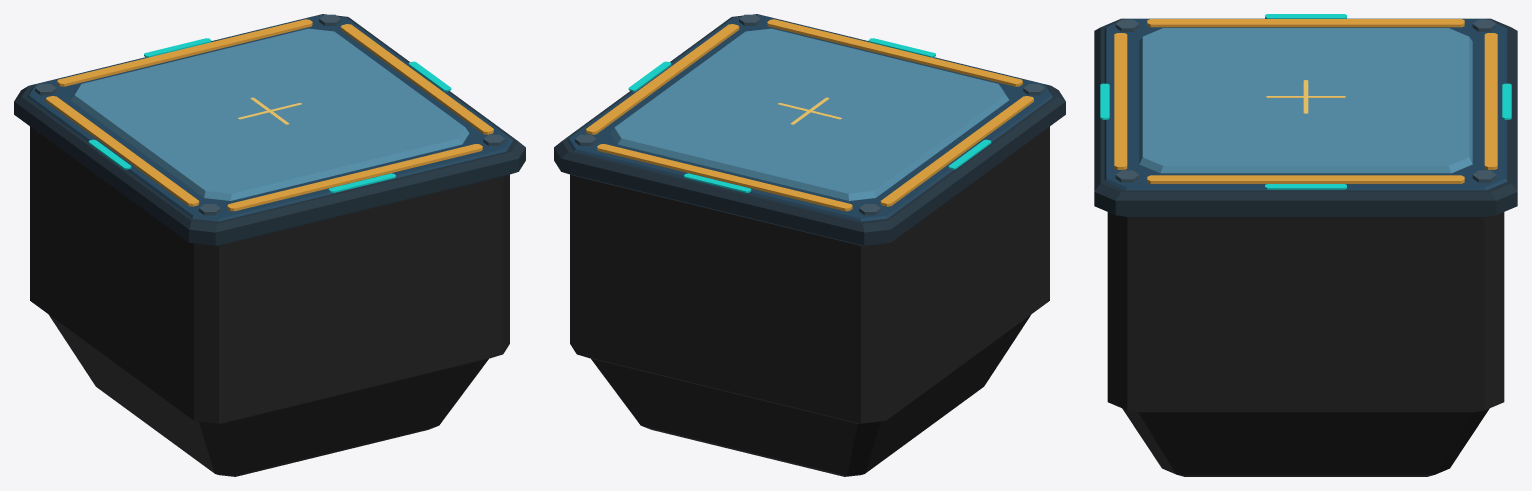
File: TurretPlatform.obj
3 views of the same model, side by side, from view 1: azimuth 30°, elevation 25°; view 2: azimuth 150°, elevation 25°; view 3: azimuth 270°, elevation 25° (orthographic). The views are drawn at different scales.
Parts seen in each view (by area): view 1: Statusz1; view 2: Statusz1; view 3: Statusz1.
Boxes of the visible parts, x1,y1,x2,y2 form: Statusz1: (14, 14, 525, 476); Statusz1: (554, 14, 1065, 476); Statusz1: (1094, 14, 1517, 476).
Size of the model in its own units: 3.2 by 2.7 by 3.2.
